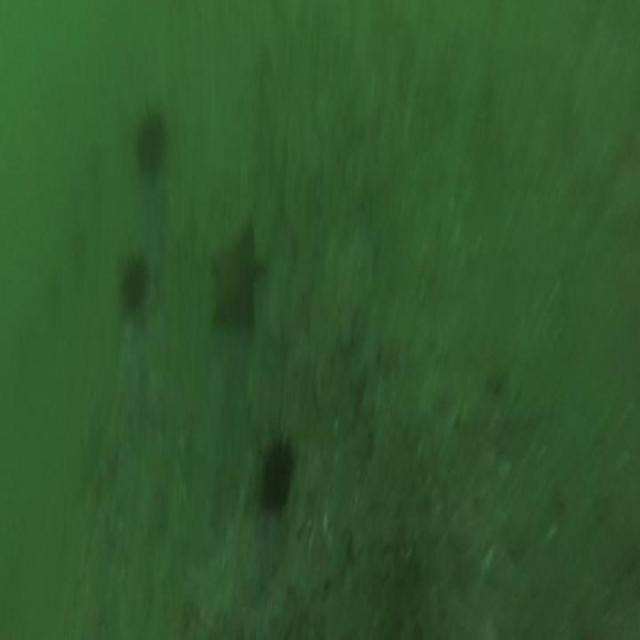echinus: (249, 428, 299, 525), (129, 101, 170, 188), (116, 243, 151, 318)
starfish: (208, 212, 269, 340)
